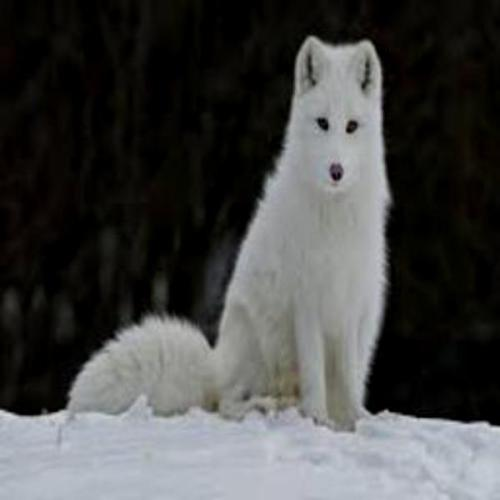arctic_fox-endangered: (83, 35, 386, 426)
